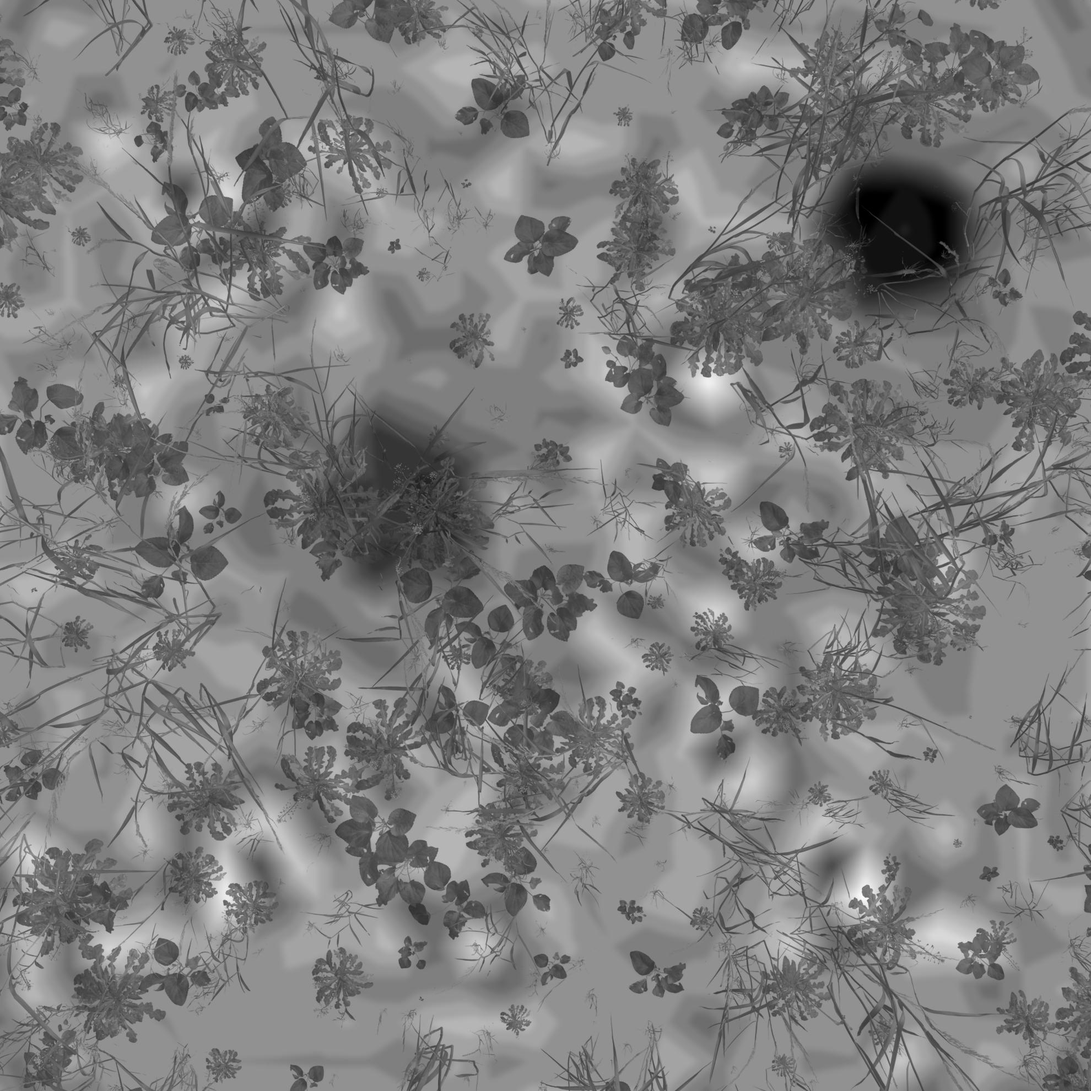landmine: (325, 428, 483, 575), (825, 150, 971, 300)
